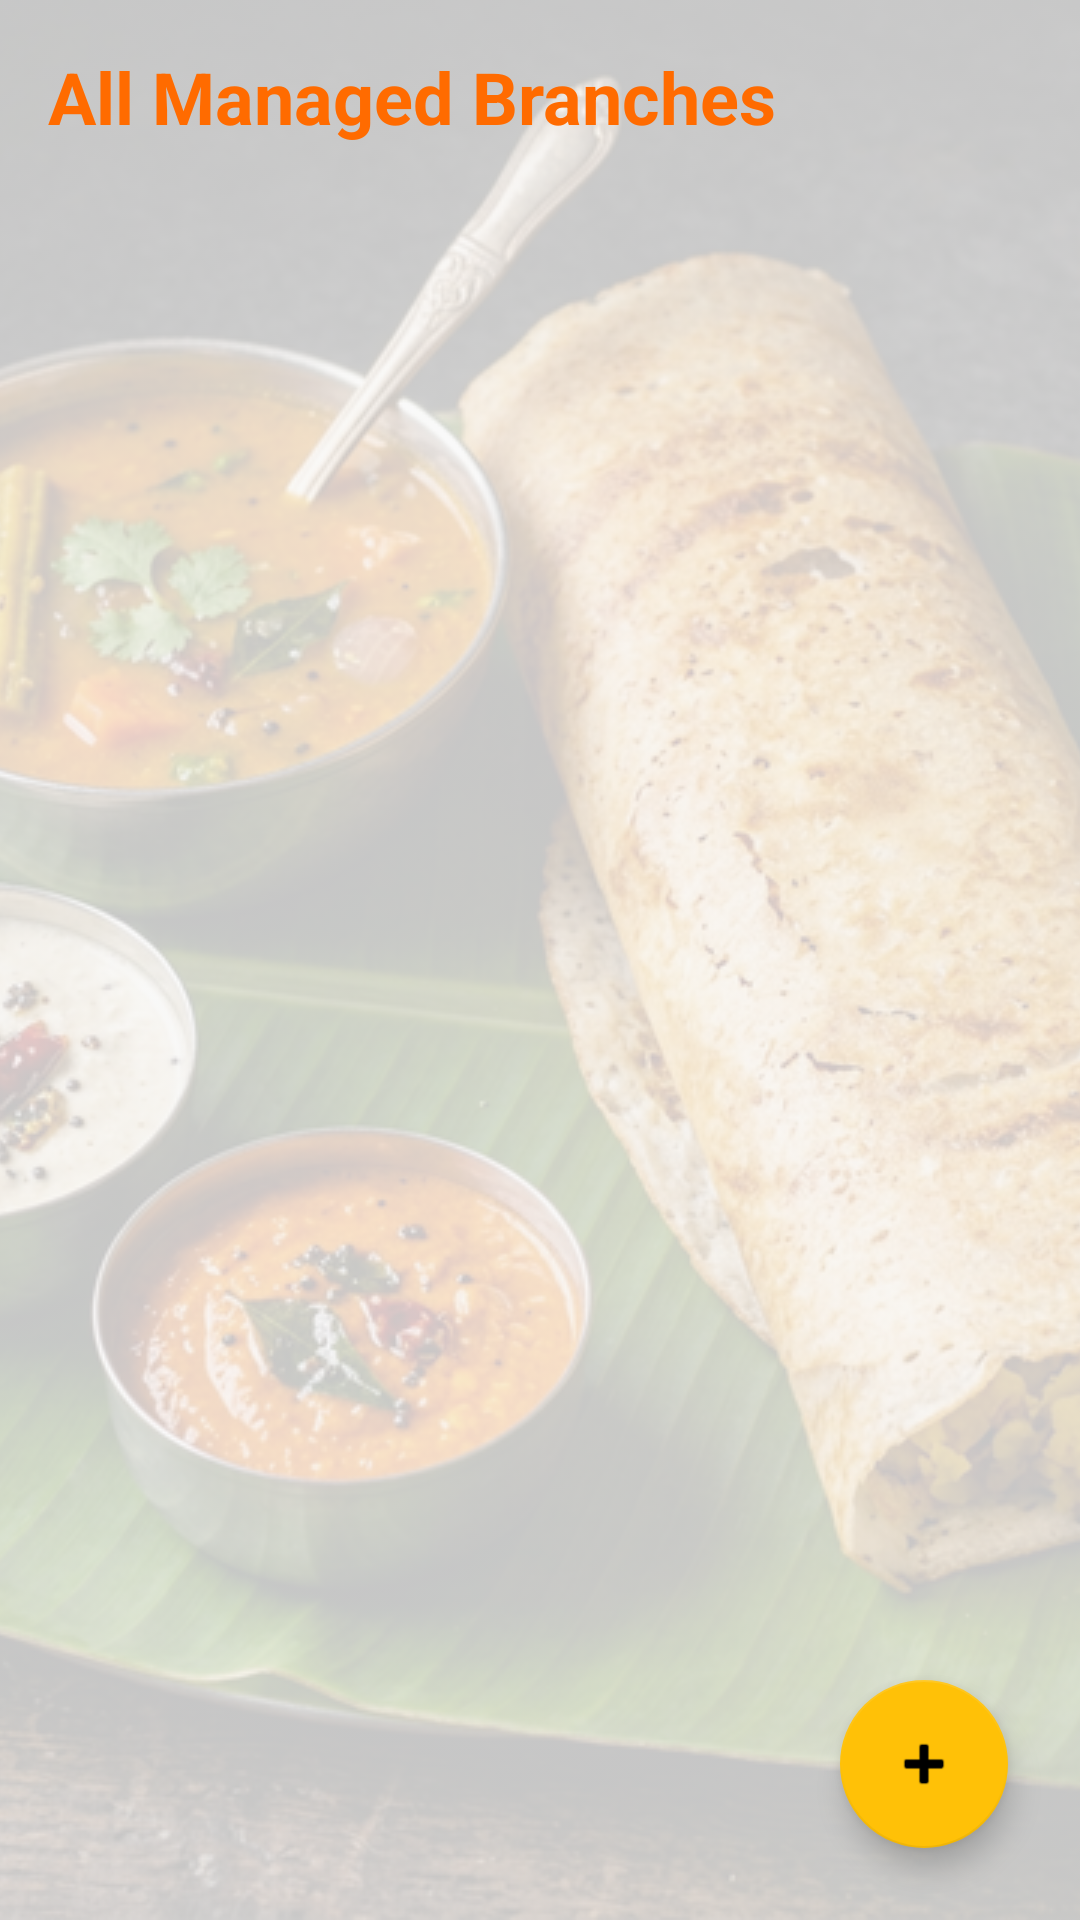

Named icons in this screenshot (1080 x 1920) and their bounding boxes, (x1, y1, x2, y2):
Add Branch: (840, 1680, 1008, 1848)
